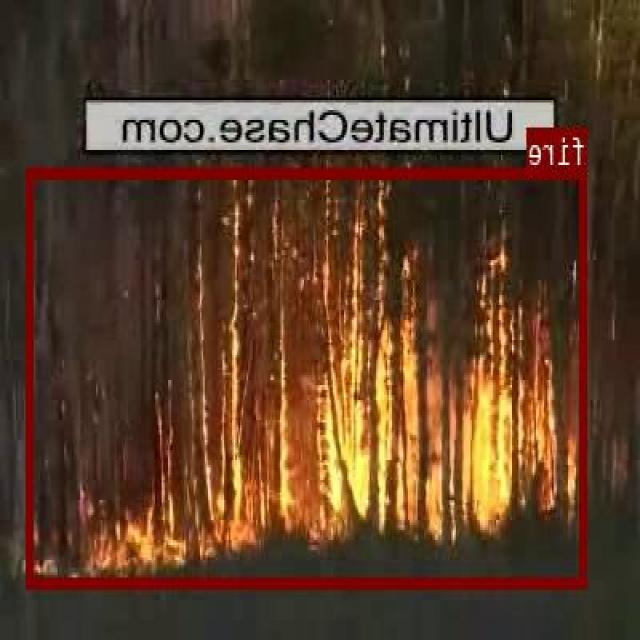fire: (29, 166, 588, 586)
